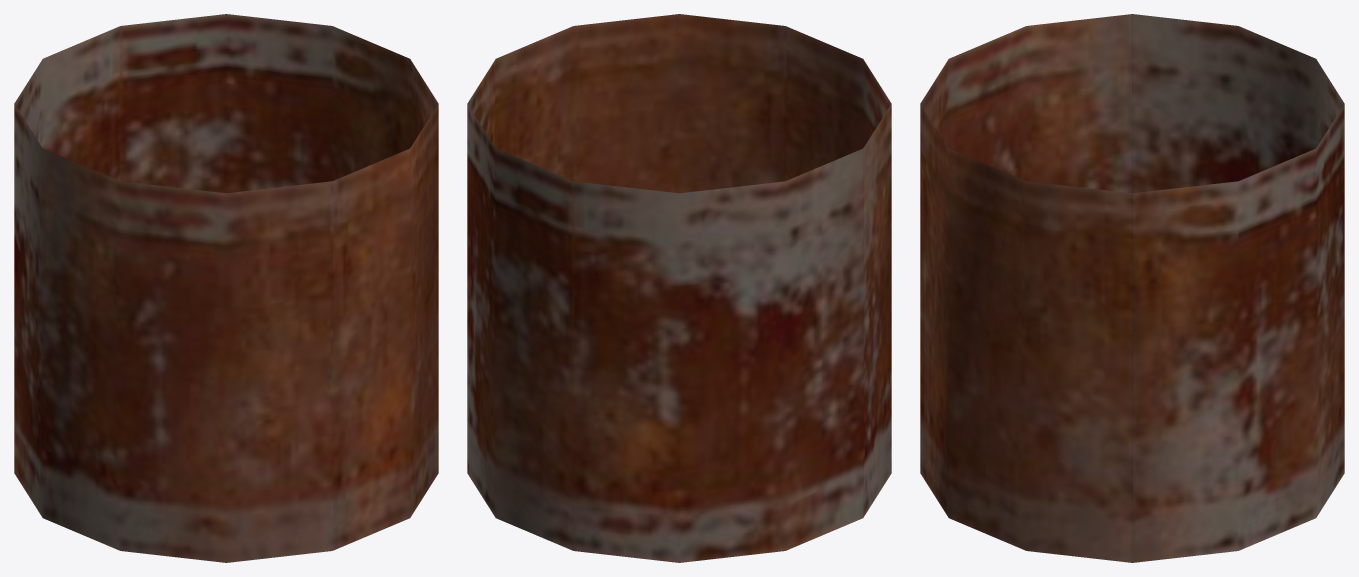
Rendered from stylized_pipe_12.glb.
3 renders of one model, left to right at view 1: azimuth 30°, elevation 25°; view 2: azimuth 150°, elevation 25°; view 3: azimuth 270°, elevation 25°, orthographic.
Visible parts, largest first — view 1: stylized_pipe_12; view 2: stylized_pipe_12; view 3: stylized_pipe_12.
Boxes of the visible parts, <box> form: stylized_pipe_12: <box>14,14,438,562</box>; stylized_pipe_12: <box>467,14,891,562</box>; stylized_pipe_12: <box>920,14,1344,562</box>.
Size of what is drawn, in the model's own units: 0.0832 by 0.08 by 0.0832.
1 material, 1 textured.
